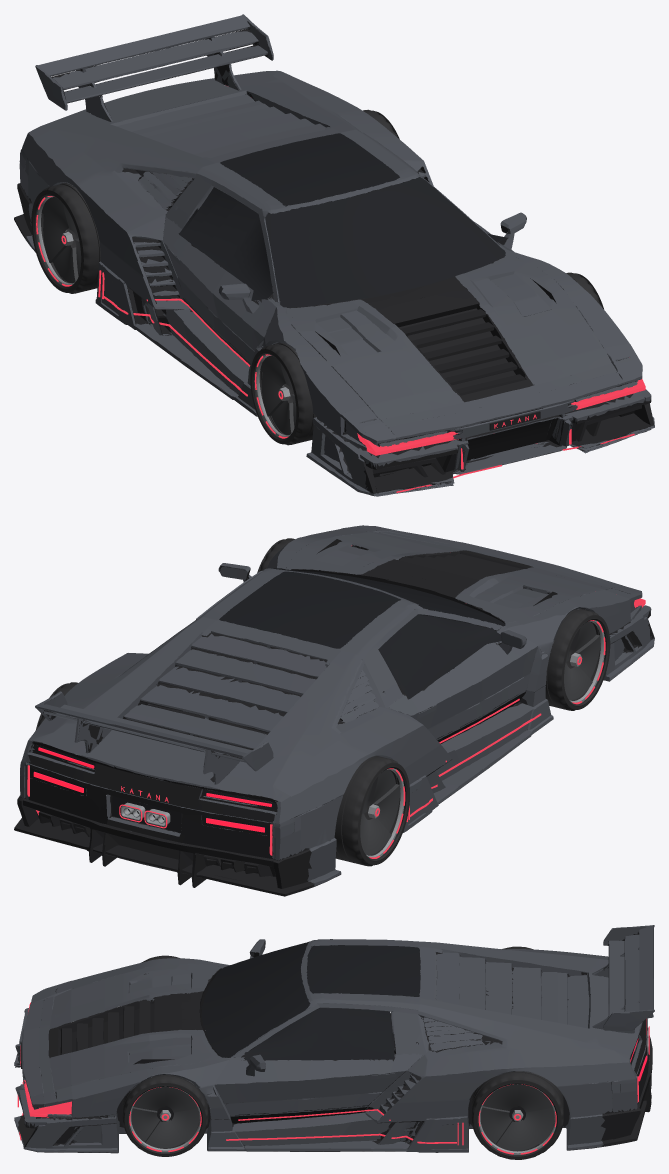
File: katana_rig.glb
The picture shows the model from 3 angles, top to bottom: view 1: azimuth 30°, elevation 25°; view 2: azimuth 150°, elevation 25°; view 3: azimuth 270°, elevation 25°; orthographic projection. The views are drawn at different scales.
Visible parts, largest first — view 1: Body_mesh, Wheel_RR_mesh, Wheel_FR_mesh; view 2: Body_mesh, Wheel_RR_mesh, Wheel_FR_mesh; view 3: Body_mesh, Wheel_RL_mesh, Wheel_FL_mesh.
Boxes of the visible parts, bbox=[...] form: Body_mesh: bbox=[14, 14, 654, 496]; Wheel_RR_mesh: bbox=[31, 183, 100, 293]; Wheel_FR_mesh: bbox=[250, 343, 316, 445]; Body_mesh: bbox=[14, 525, 654, 896]; Wheel_RR_mesh: bbox=[334, 756, 409, 866]; Wheel_FR_mesh: bbox=[545, 609, 610, 710]; Body_mesh: bbox=[14, 925, 654, 1153]; Wheel_RL_mesh: bbox=[471, 1071, 563, 1159]; Wheel_FL_mesh: bbox=[122, 1075, 208, 1156].
Bounding box in the file's own units: 2.6 × 1.16 × 5.28.
